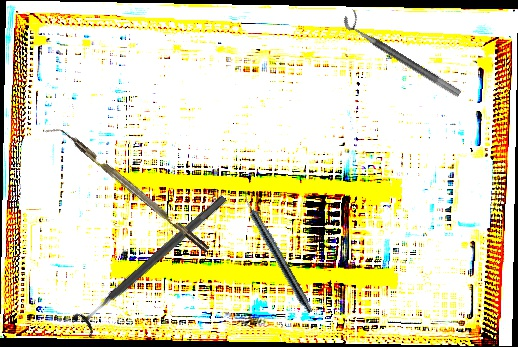Chopper: (45, 118, 210, 261)
Fixation Ring: (70, 186, 235, 339), (340, 7, 468, 99)
Handpiece: (237, 189, 317, 315)
